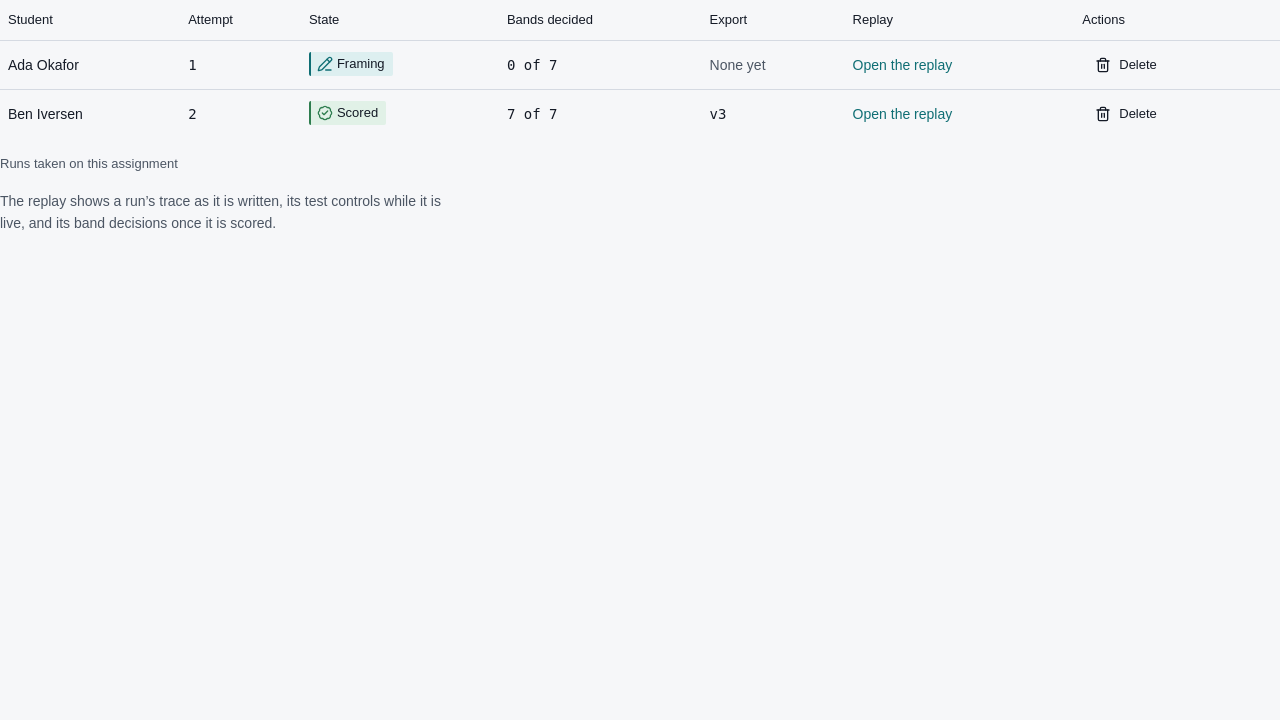
Scenario: AssignmentRunsTable (UI-032) › keeps the run and says why when the service refuses
What coordinates should you click on to do the following:
click the button "Delete" in the row of "Ada Okafor"
I would click on:
 (1126, 64)
Its box is [1082,48,1170,80].
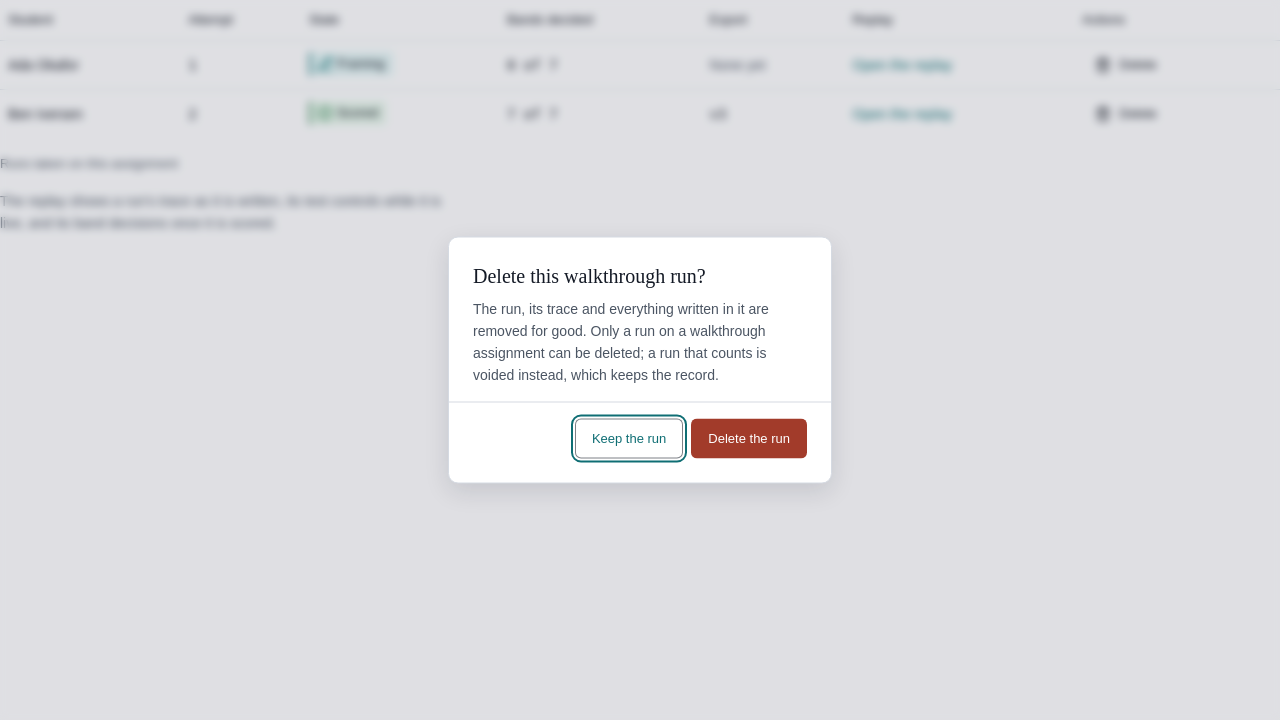
What coordinates should you click on to do the following:
click the button "Delete the run"
I would click on:
 (749, 438)
Its box is [691,418,807,458].
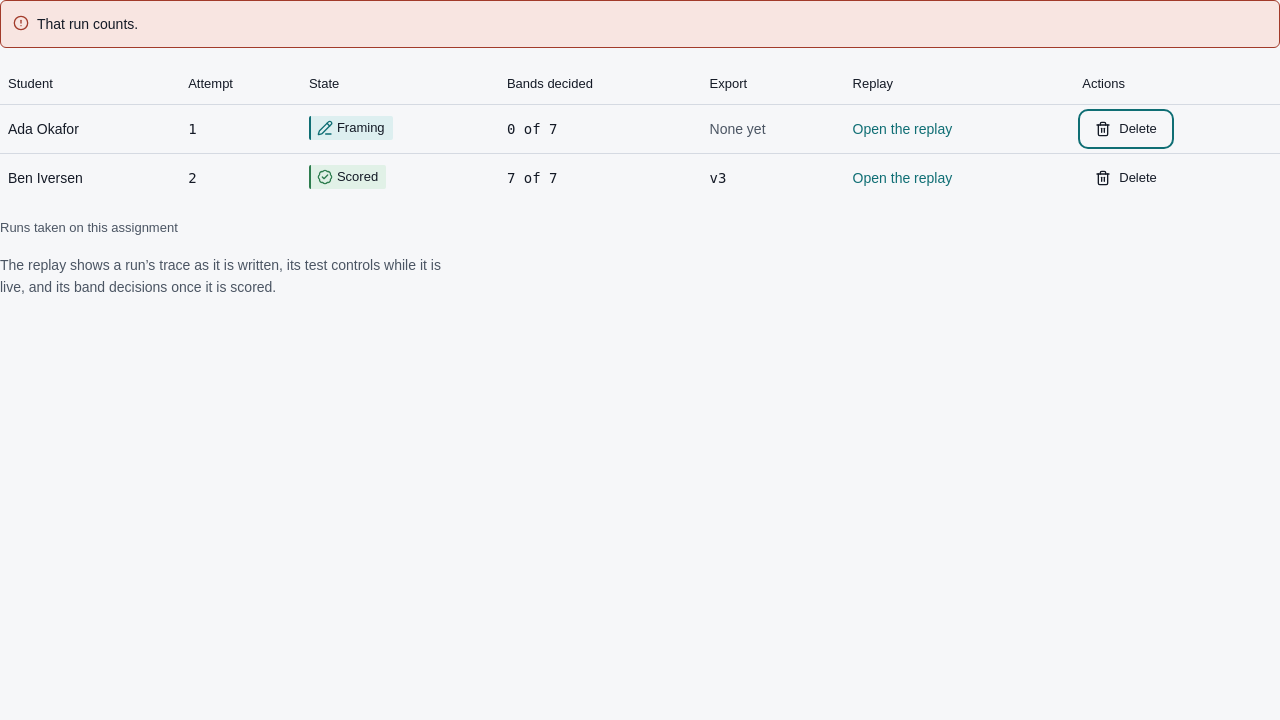
Result: the message reads "That run counts." at [37,16,138,32]
